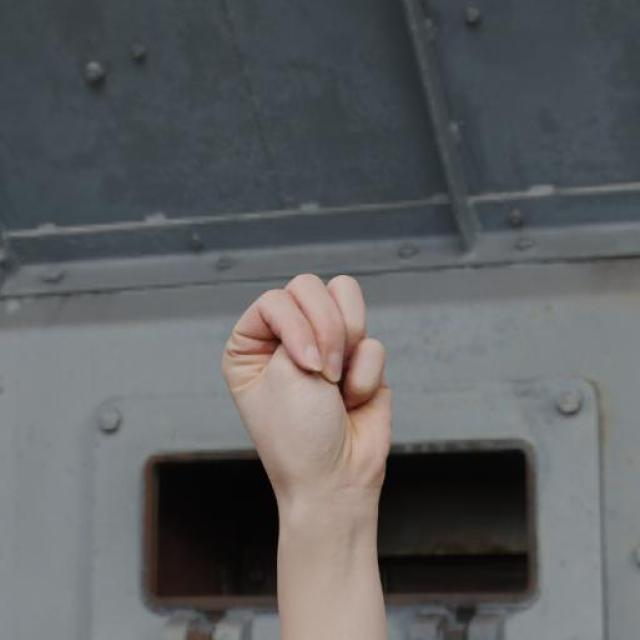M: (213, 269, 400, 503)
